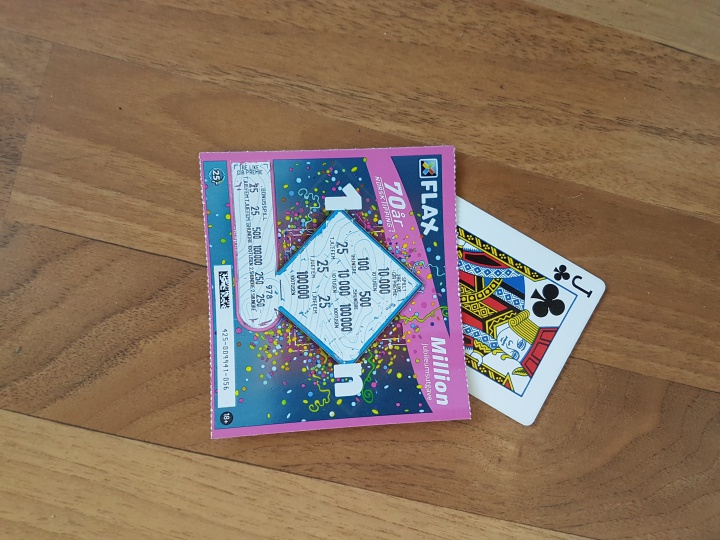jack: (455, 187, 609, 431)
